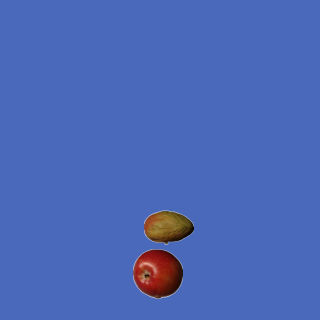Apple Braeburn: (132, 248, 182, 298)
Papaya: (143, 202, 193, 252)
